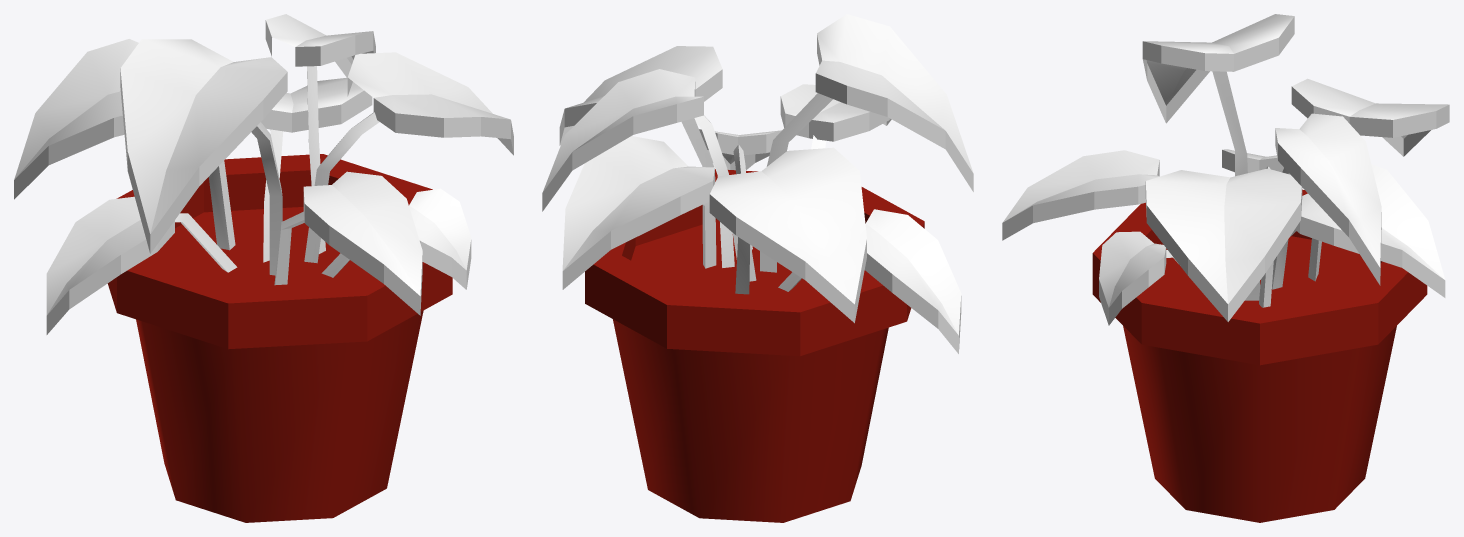
The model's file is SM_Plant_01.fbx.
The picture shows the model from 3 angles, left to right: view 1: azimuth 30°, elevation 25°; view 2: azimuth 150°, elevation 25°; view 3: azimuth 270°, elevation 25°; orthographic projection. The views are drawn at different scales.
Visible parts, largest first — view 1: SM_Plant_01; view 2: SM_Plant_01; view 3: SM_Plant_01.
Boxes of the visible parts, x1,y1,x2,y2 form: SM_Plant_01: [14, 14, 513, 522]; SM_Plant_01: [542, 14, 973, 522]; SM_Plant_01: [1002, 14, 1449, 522].
Bounding box in the file's own units: 20.09 × 19.74 × 19.31.
